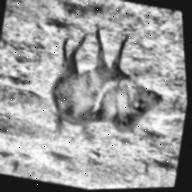boar: (32, 21, 187, 165)
